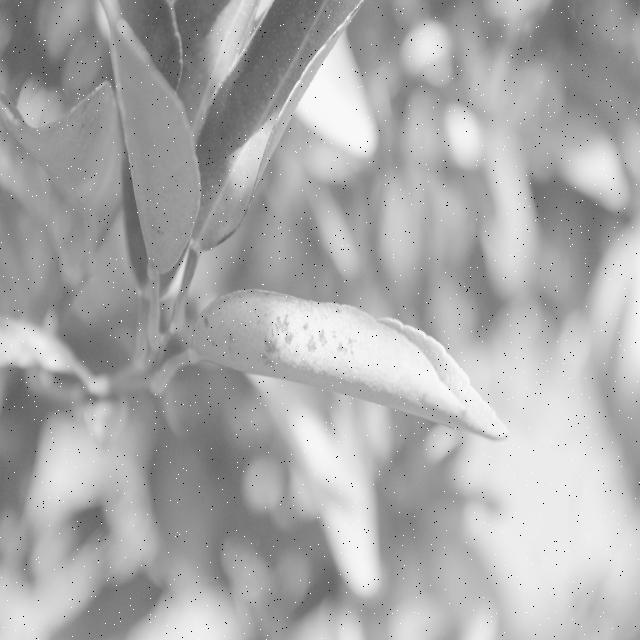melanose: (196, 262, 509, 441)
